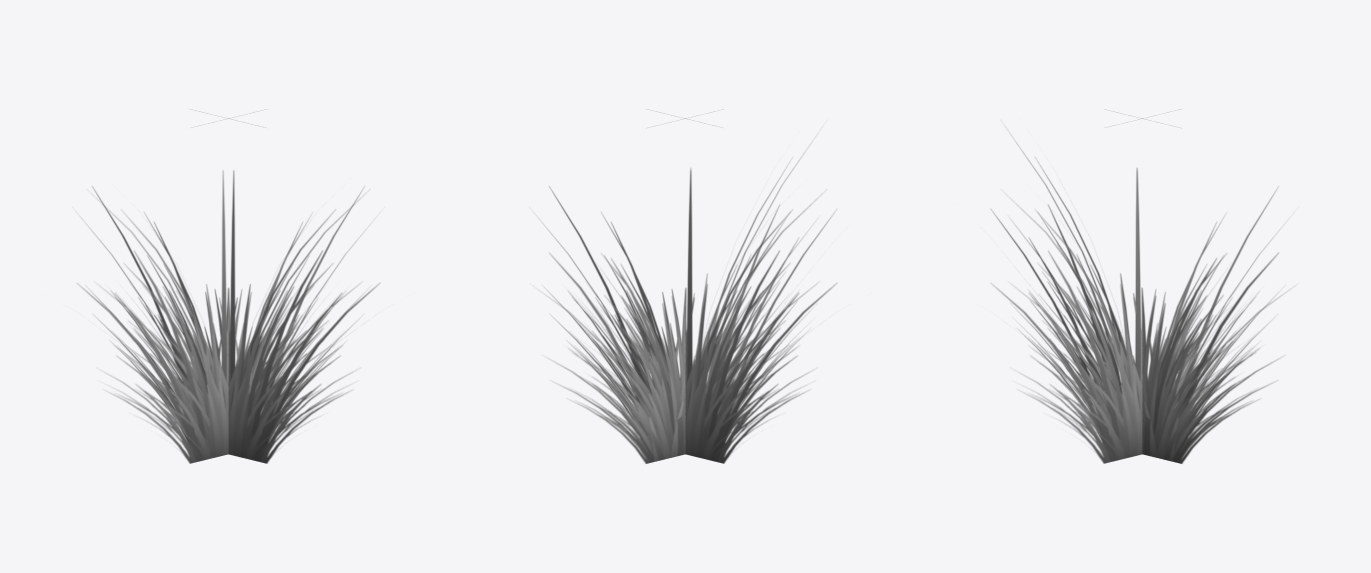
File: Blade_Wild.glb
3 renders of one model, left to right at view 1: azimuth 30°, elevation 25°; view 2: azimuth 150°, elevation 25°; view 3: azimuth 270°, elevation 25°, orthographic.
Visible parts, largest first — view 1: Blade_Wild; view 2: Blade_Wild; view 3: Blade_Wild.
Part boxes in pixels (left/top/right/bottom): Blade_Wild: left=77, top=118, right=379, bottom=463; Blade_Wild: left=538, top=118, right=836, bottom=463; Blade_Wild: left=991, top=118, right=1289, bottom=463.
Bounding box in the file's own units: 0.9429 × 0.7069 × 0.8166.
Materials: 1 (1 with a texture image).
